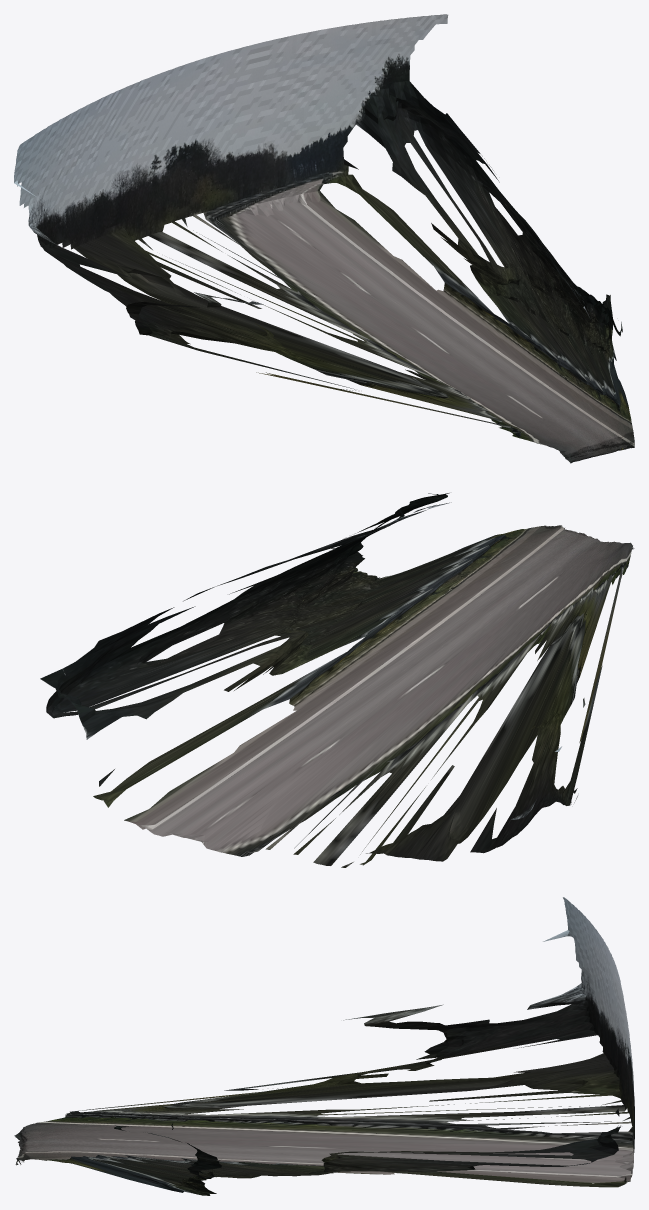
3 renders of one model, top to bottom at view 1: azimuth 30°, elevation 25°; view 2: azimuth 150°, elevation 25°; view 3: azimuth 270°, elevation 25°, orthographic. The views are drawn at different scales.
Visible parts, largest first — view 1: defaultobject; view 2: defaultobject; view 3: defaultobject.
Boxes of the visible parts, x1,y1,x2,y2 form: defaultobject: (14, 14, 634, 463); defaultobject: (40, 493, 634, 867); defaultobject: (14, 897, 634, 1195).
Size of the model in its own units: 33.27 by 12.25 by 44.5.
Materials: 1 (1 with a texture image).
